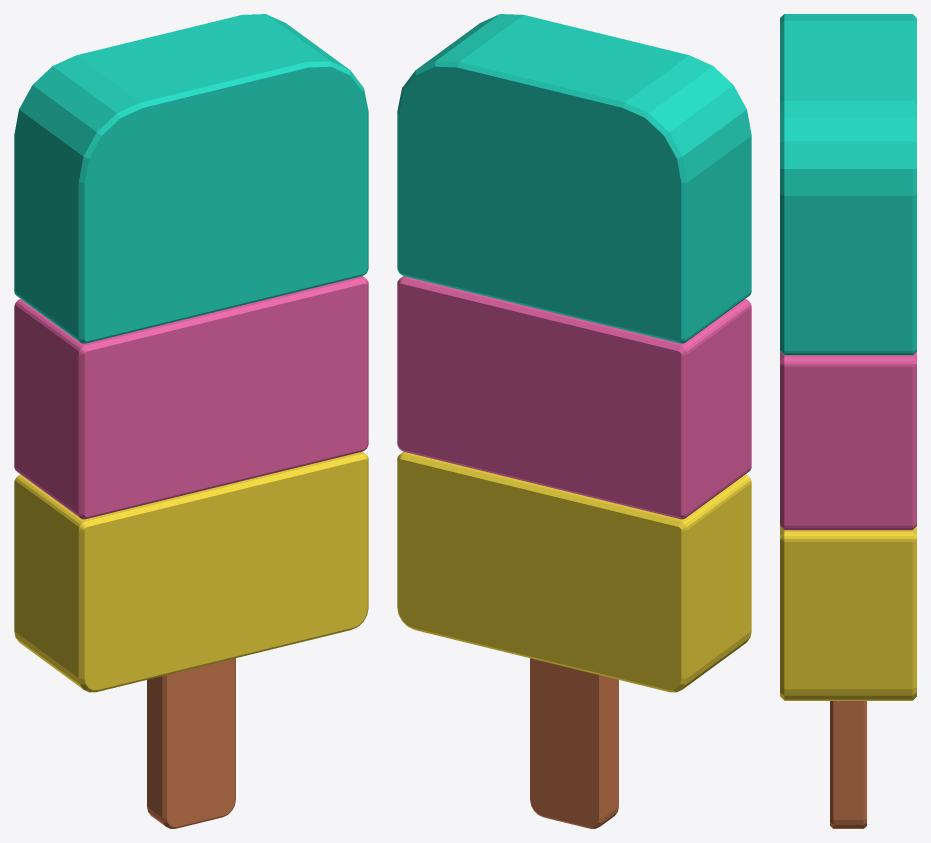
3 views of the same model, side by side, from view 1: azimuth 30°, elevation 25°; view 2: azimuth 150°, elevation 25°; view 3: azimuth 270°, elevation 25° (orthographic).
Parts seen in each view (by area): view 1: Part_000_Top, Part_001_Middle, Part_002_Bottom, Part_003_Stick; view 2: Part_000_Top, Part_001_Middle, Part_002_Bottom, Part_003_Stick; view 3: Part_000_Top, Part_001_Middle, Part_002_Bottom, Part_003_Stick.
Part boxes in pixels (x1,y1,x2,y2): Part_000_Top: (14, 14, 368, 343); Part_001_Middle: (14, 276, 368, 519); Part_002_Bottom: (14, 451, 368, 692); Part_003_Stick: (147, 658, 235, 828); Part_000_Top: (397, 14, 751, 343); Part_001_Middle: (397, 276, 751, 519); Part_002_Bottom: (397, 451, 751, 692); Part_003_Stick: (530, 658, 618, 828); Part_000_Top: (780, 14, 916, 355); Part_001_Middle: (780, 351, 916, 530); Part_002_Bottom: (780, 526, 916, 700); Part_003_Stick: (830, 701, 866, 828).
Bounding box in the file's own units: 5.6 × 14 × 2.3.
